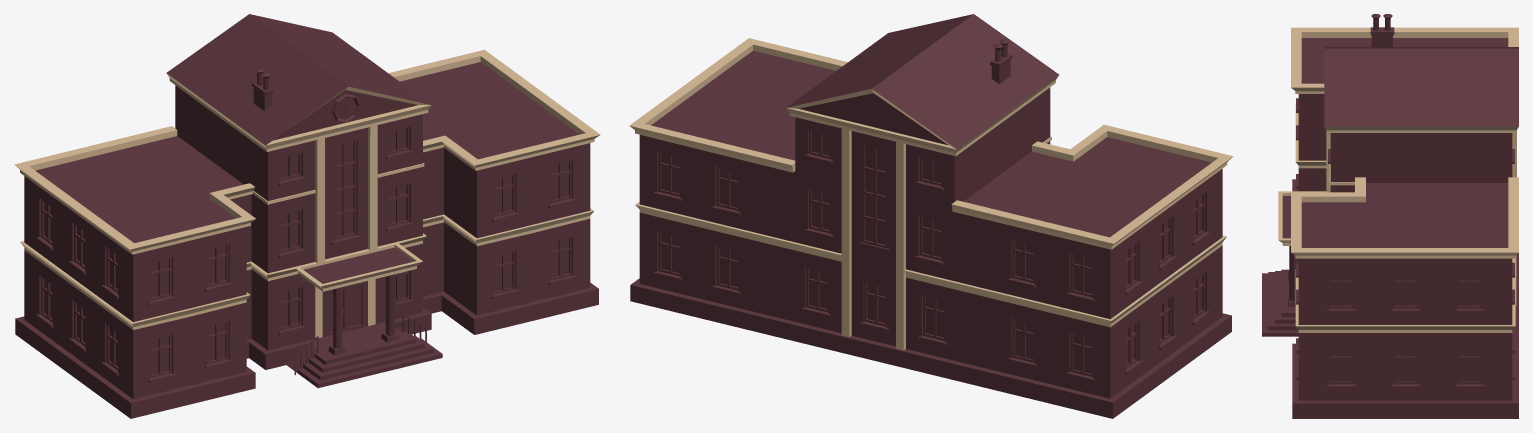
File: building-school.fbx
The picture shows the model from 3 angles, left to right: view 1: azimuth 30°, elevation 25°; view 2: azimuth 150°, elevation 25°; view 3: azimuth 270°, elevation 25°; orthographic projection. The views are drawn at different scales.
Parts seen in each view (by area): view 1: building-school; view 2: building-school; view 3: building-school.
Part boxes in pixels (x1,y1,x2,y2): building-school: (14, 14, 600, 418); building-school: (629, 14, 1233, 418); building-school: (1262, 14, 1518, 418).
Size of the model in its own units: 24.9 by 13.72 by 12.01.
